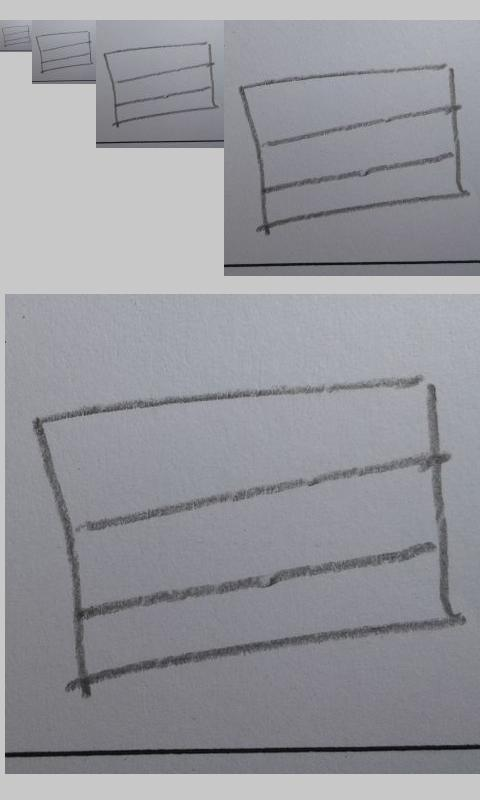list_view: (26, 373, 463, 687), (239, 63, 469, 231), (101, 41, 218, 127), (35, 30, 93, 73), (1, 24, 31, 47)
